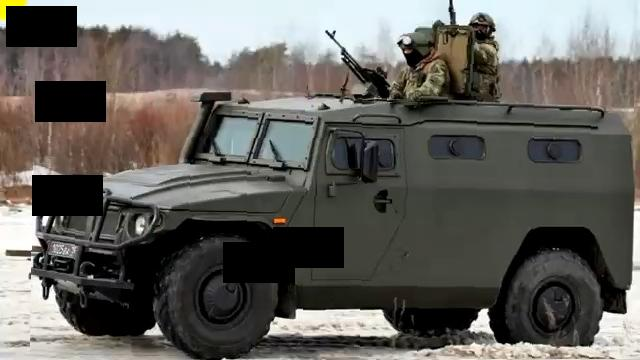MIL_HMMWV: (31, 88, 633, 360), (432, 12, 504, 96), (388, 34, 449, 103)
